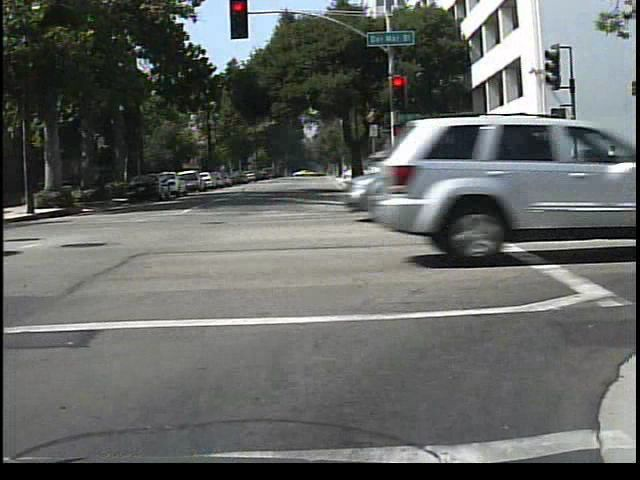person: (598, 135, 625, 201)
